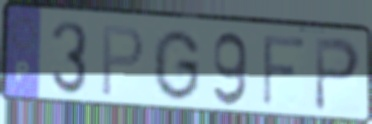3: (49, 19, 89, 98)
9: (212, 29, 249, 108)
F: (260, 32, 308, 109)
G: (151, 27, 203, 103)
P: (312, 35, 363, 115), (99, 23, 147, 99)
